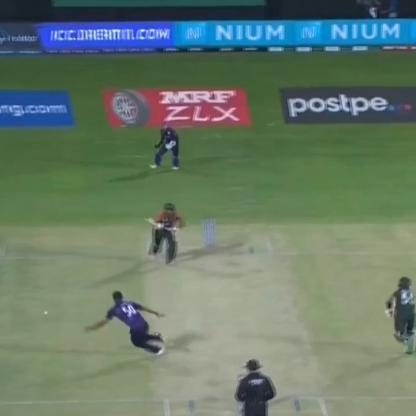ball: (42, 306, 52, 317)
pitch: (134, 230, 334, 413)
